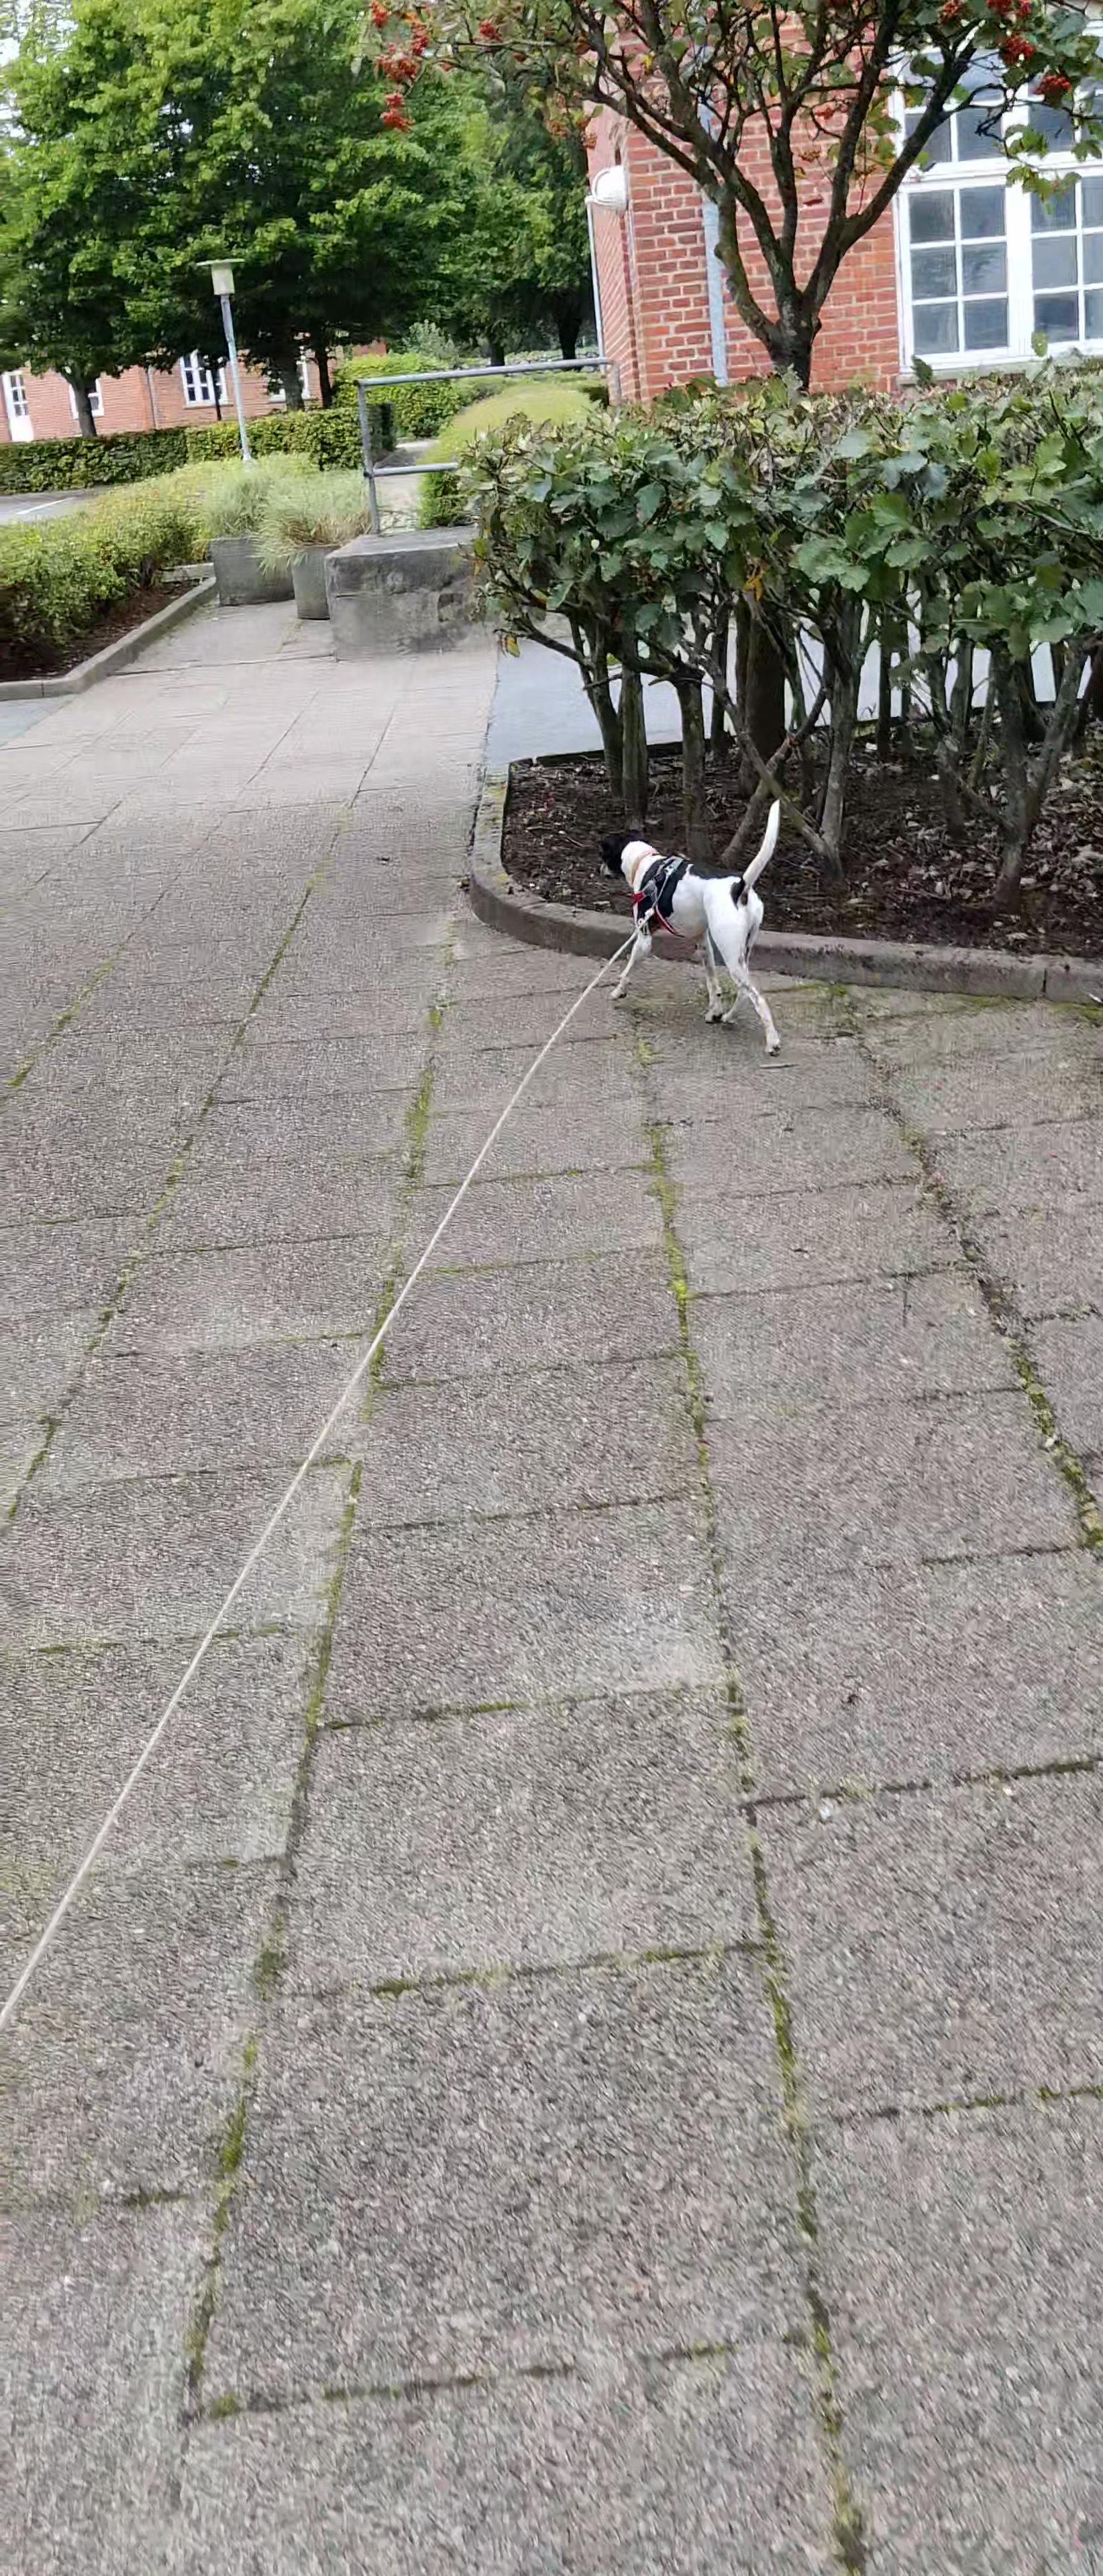Dog: (590, 795, 809, 1053)
